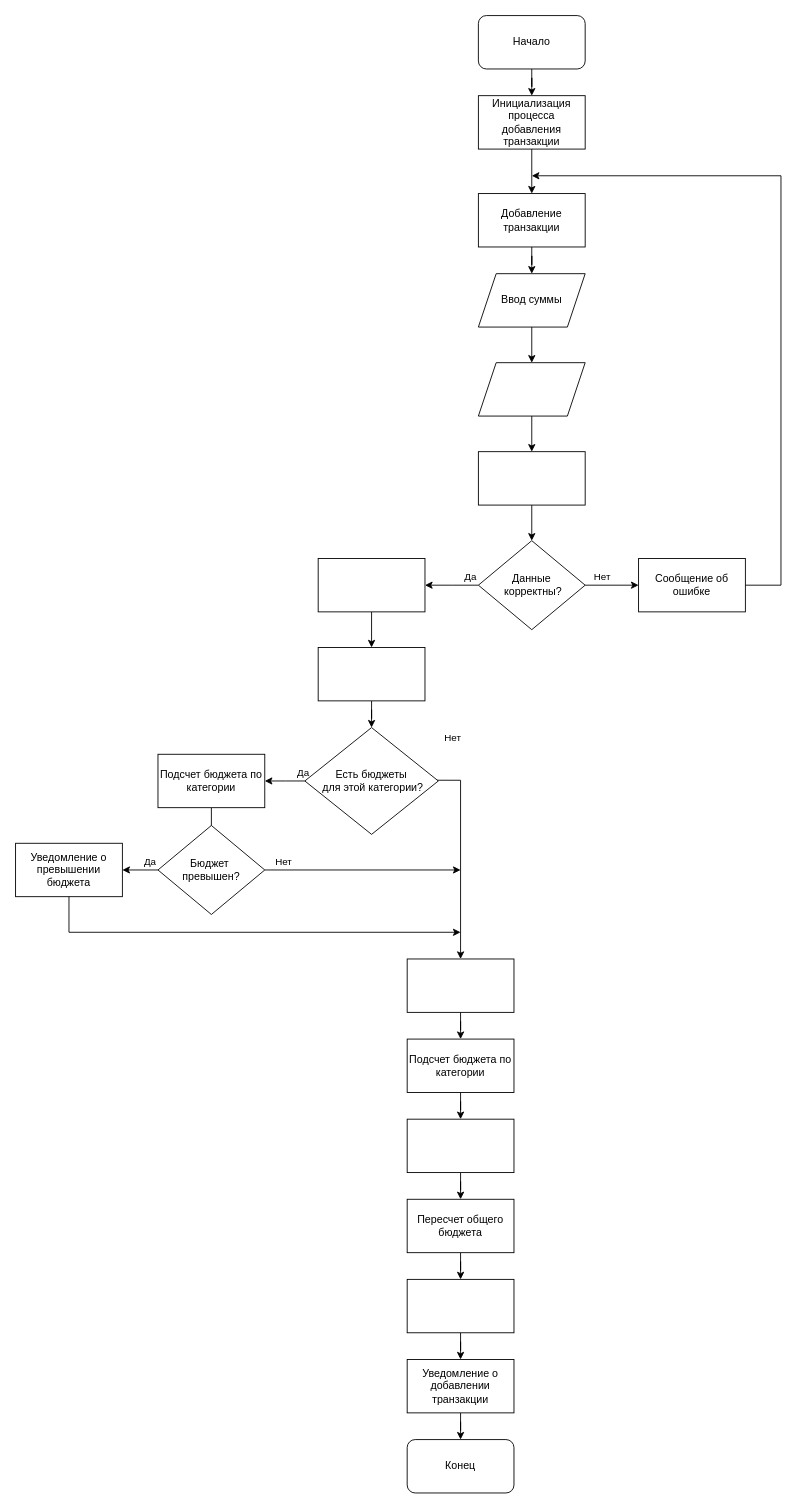
This 804x1509 diagram has some shape labels left out. Here are the shapes that lost their labels. From the top down, the centre of each, then its label:
At (x=531, y=389): "Выбор категории".
At (x=531, y=478): "Проверка корректности введенных данных".
At (x=371, y=585): "Привязка транзакции к категории".
At (x=371, y=674): "Получение активных бюджетов пользователя".
At (x=460, y=985): "Сохранение транзакции в базе данных".
At (x=460, y=1145): "Получение данных общего бюджета".
At (x=460, y=1305): "Обновление агрегированных данных для аналитики".
